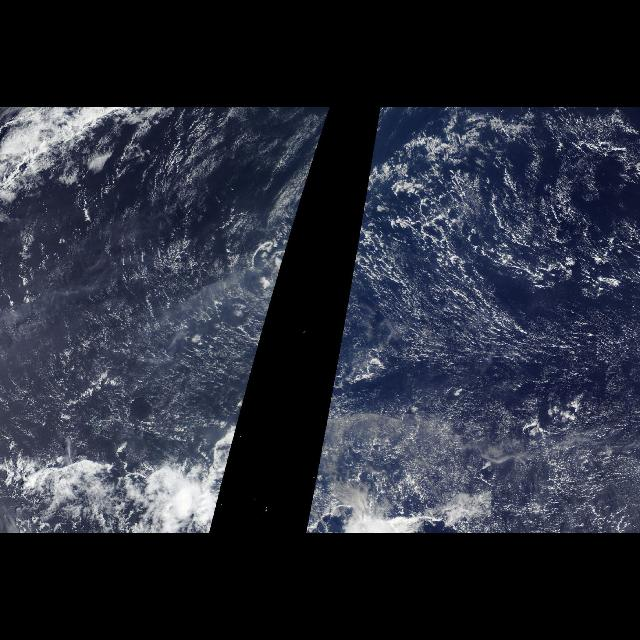Gravel: (355, 112, 635, 300)
Sugar: (320, 185, 640, 503)
